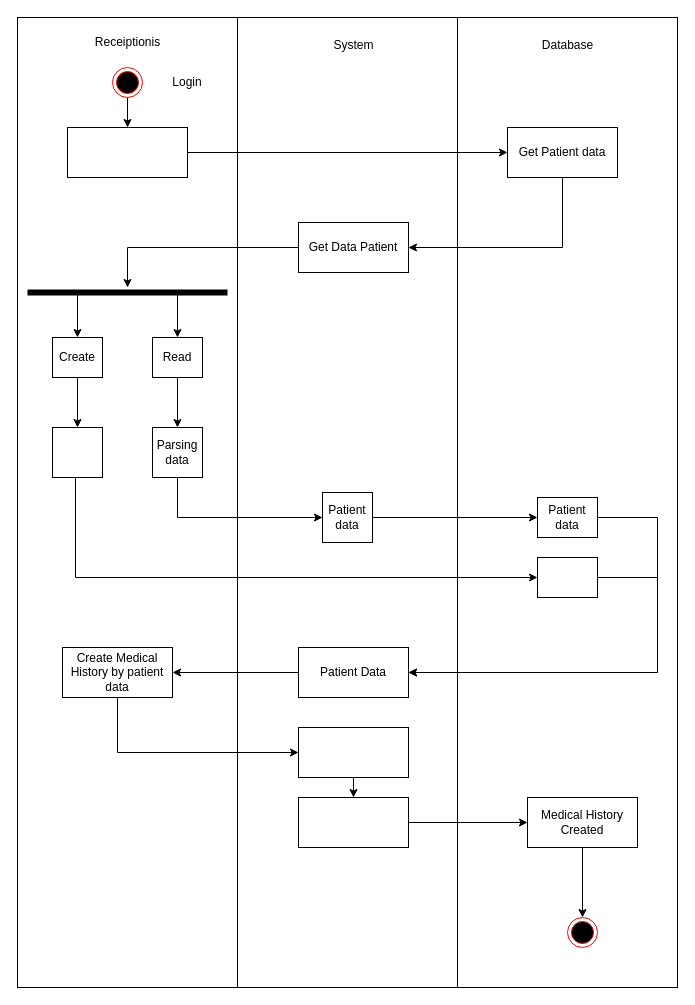
The diagram is 695 pixels wide and 1005 high, and some of its shapes have lost their labels. The box of each missing label's shape, as (x1, y1, x2, y2) in pixels:
Account Created: (536, 556, 598, 598)
Check Availibility Patient Data: (66, 126, 188, 178)
Fill form of Account: (52, 426, 102, 478)
Form Medical History: (298, 796, 408, 848)
select the doctor queue: (298, 726, 408, 778)
